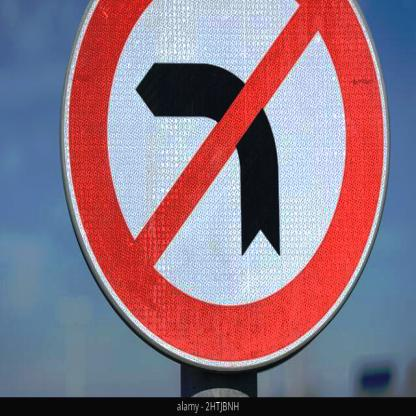No left turn: (67, 0, 381, 361)
